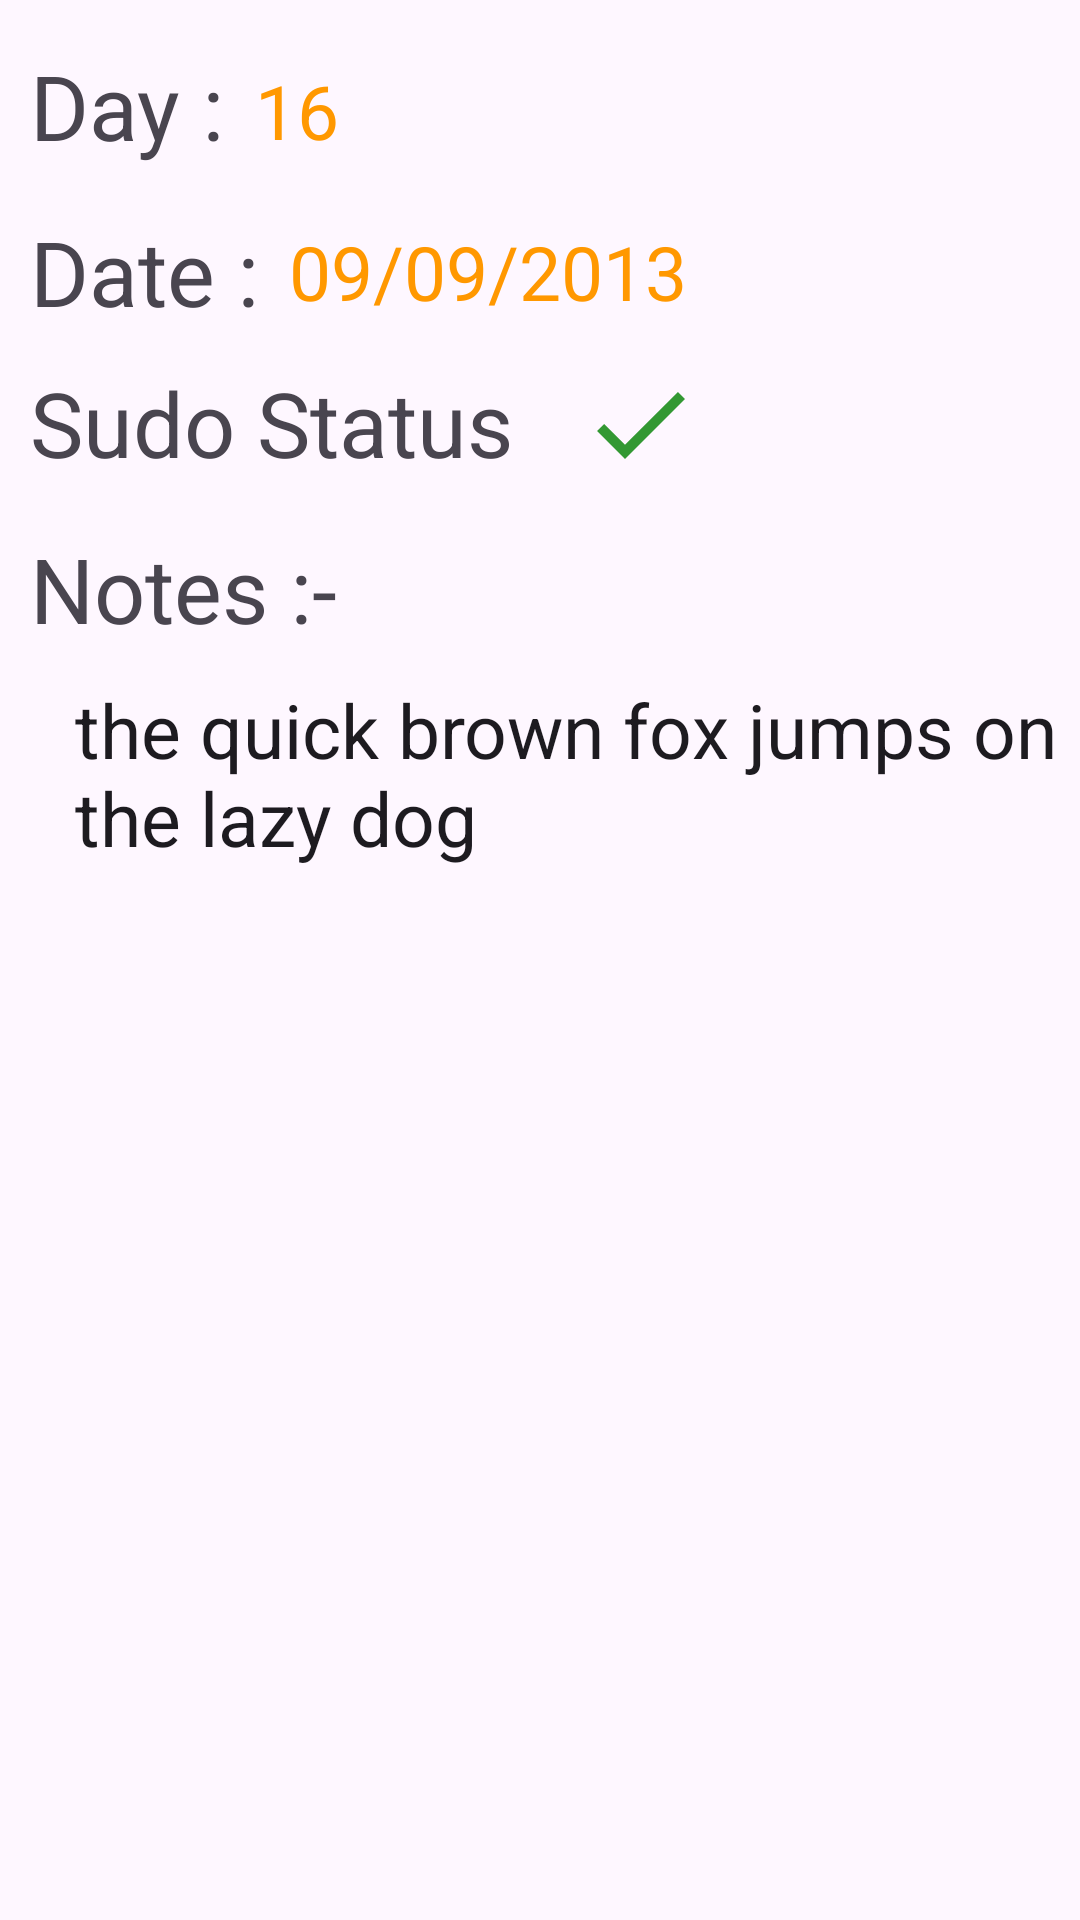

Point at icon controls on the screen. Image size 1080 × 1920, points as [x,y].
done: [641,425]
